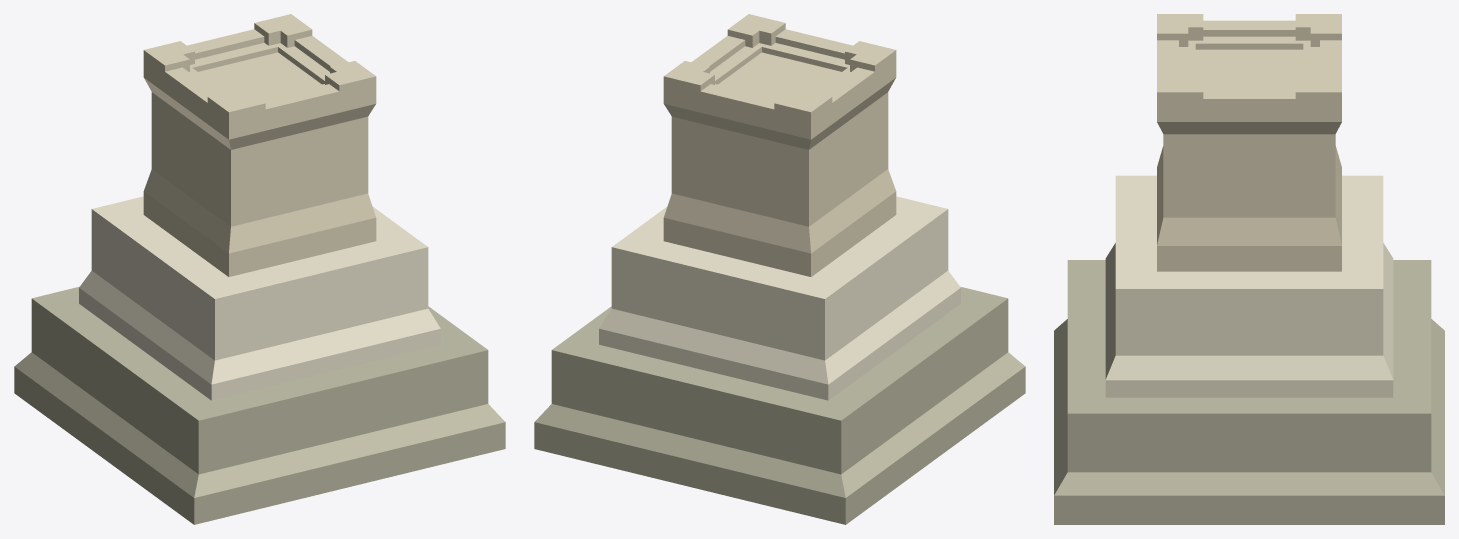
The model's file is south_american-spire.glb.
The picture shows the model from 3 angles, left to right: view 1: azimuth 30°, elevation 25°; view 2: azimuth 150°, elevation 25°; view 3: azimuth 270°, elevation 25°; orthographic projection. The views are drawn at different scales.
Parts seen in each view (by area): view 1: body; view 2: body; view 3: body.
Part boxes in pixels (x1,y1,x2,y2): body: (14,14,505,524); body: (534,14,1025,524); body: (1054,14,1444,524).
Bounding box in the file's own units: 0.95 × 1.04 × 0.95.
